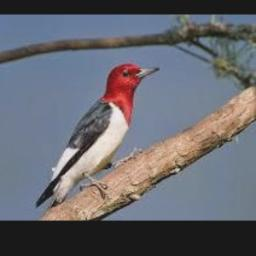Woodpecker: (35, 63, 159, 214)
